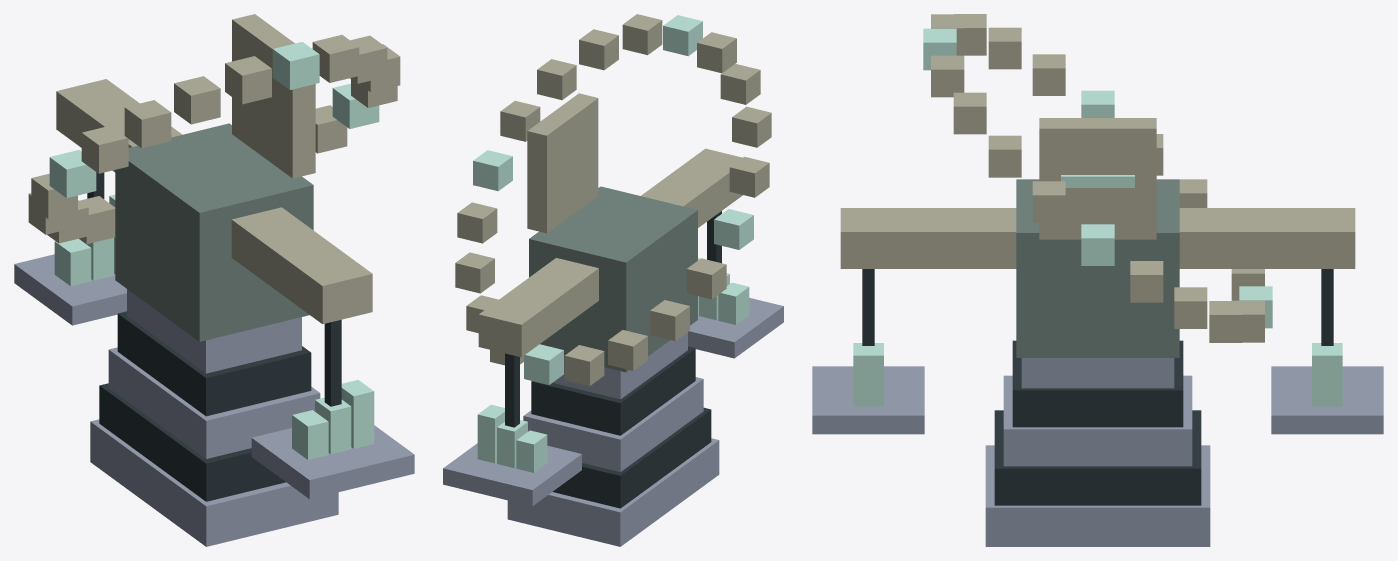
Rendered from unmoored-judge.glb.
3 views of the same model, side by side, from view 1: azimuth 30°, elevation 25°; view 2: azimuth 150°, elevation 25°; view 3: azimuth 270°, elevation 25° (orthographic). The views are drawn at different scales.
Visible parts, largest first — view 1: FloatingMantle, Torso, CrownRing, BalanceArms, BalancePans, Mask, JudgementStones, BalanceChains; view 2: FloatingMantle, CrownRing, Torso, BalanceArms, Mask, BalancePans, JudgementStones, BalanceChains; view 3: FloatingMantle, BalanceArms, CrownRing, Torso, BalancePans, Mask, JudgementStones, BalanceChains, EyeSlit.
Part boxes in pixels (x1=…): FloatingMantle: x1=90, y1=289, x2=338, y2=546; Torso: x1=115, y1=123, x2=313, y2=341; CrownRing: x1=28, y1=35, x2=400, y2=243; BalanceArms: x1=56, y1=79, x2=372, y2=324; BalancePans: x1=14, y1=254, x2=414, y2=499; Mask: x1=232, y1=14, x2=315, y2=178; JudgementStones: x1=54, y1=237, x2=374, y2=459; BalanceChains: x1=87, y1=172, x2=341, y2=406; FloatingMantle: x1=507, y1=332, x2=719, y2=546; CrownRing: x1=455, y1=14, x2=771, y2=385; Torso: x1=529, y1=186, x2=697, y2=372; BalanceArms: x1=478, y1=148, x2=742, y2=357; Mask: x1=527, y1=93, x2=598, y2=233; BalancePans: x1=443, y1=298, x2=783, y2=506; JudgementStones: x1=477, y1=258, x2=749, y2=472; BalanceChains: x1=505, y1=211, x2=721, y2=427; FloatingMantle: x1=985, y1=340, x2=1210, y2=546; BalanceArms: x1=840, y1=208, x2=1355, y2=268; CrownRing: x1=923, y1=14, x2=1272, y2=342; Torso: x1=1016, y1=179, x2=1179, y2=357; BalancePans: x1=812, y1=366, x2=1383, y2=434; Mask: x1=1039, y1=118, x2=1156, y2=239; JudgementStones: x1=853, y1=343, x2=1342, y2=406; BalanceChains: x1=862, y1=269, x2=1333, y2=345; EyeSlit: x1=1061, y1=175, x2=1134, y2=187.
Size of the model in its own units: 6.85 by 10.39 by 11.2.
